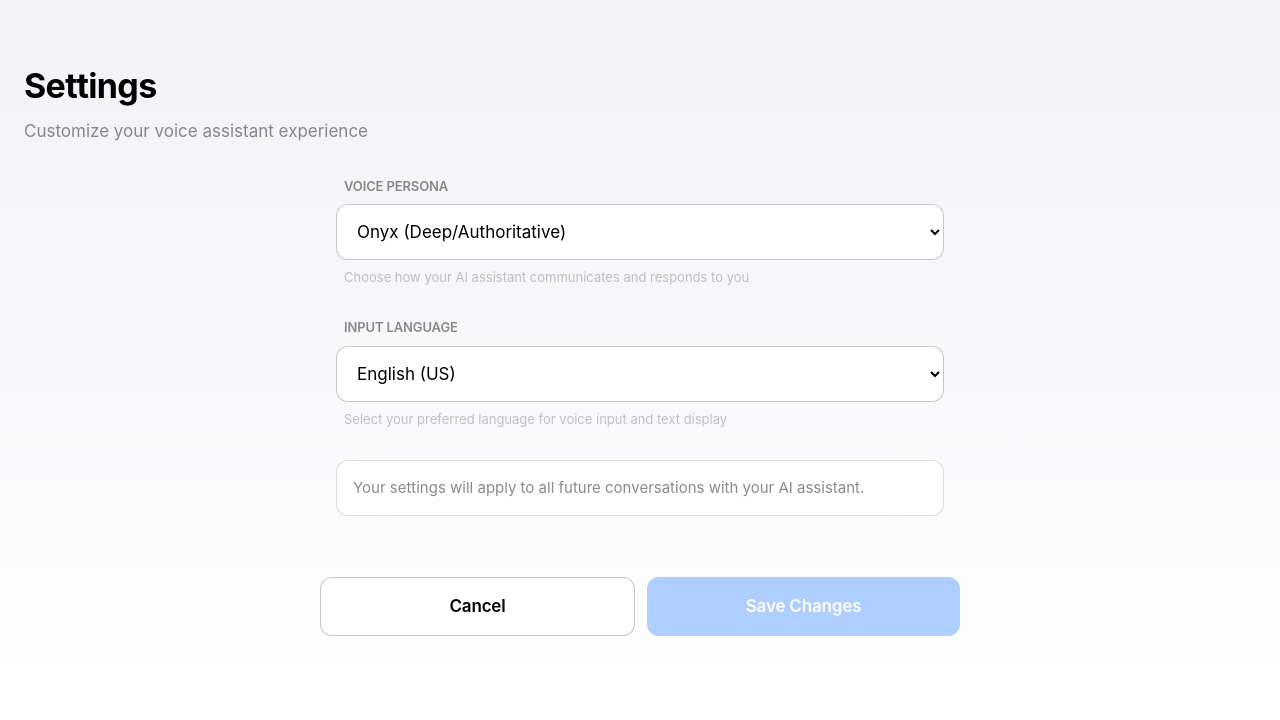
Test case: SettingsPage › should enable save button when changes are made
# Make a change
Select "Nova (Female/Bright)" in the dropdown below "Voice Persona" at (640, 232), box [337, 205, 943, 259]
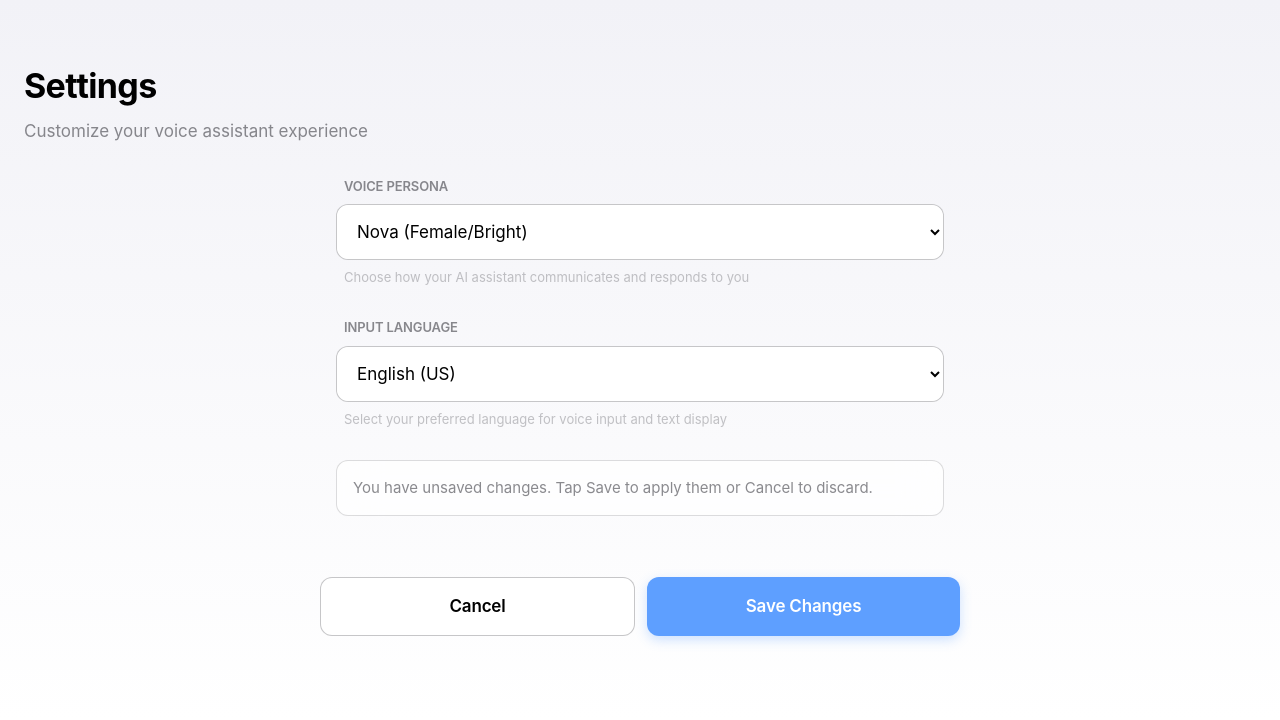
Result: the button "Save Changes" is enabled at [647, 576, 960, 636]
